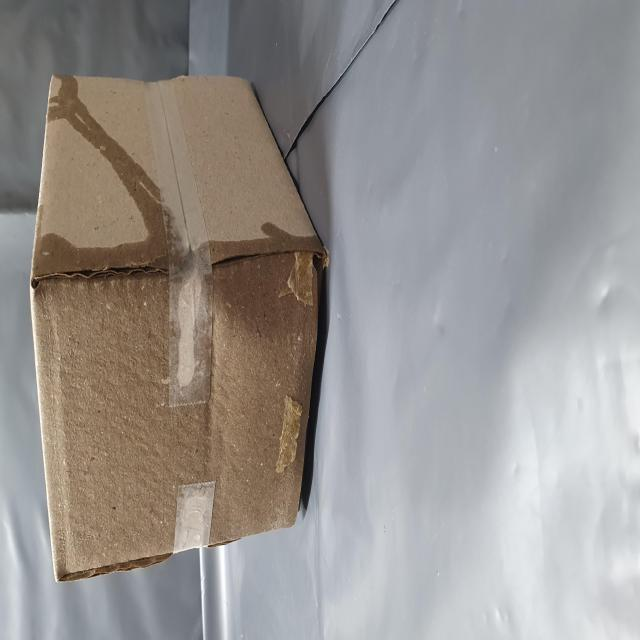wet: (32, 35, 237, 580)
